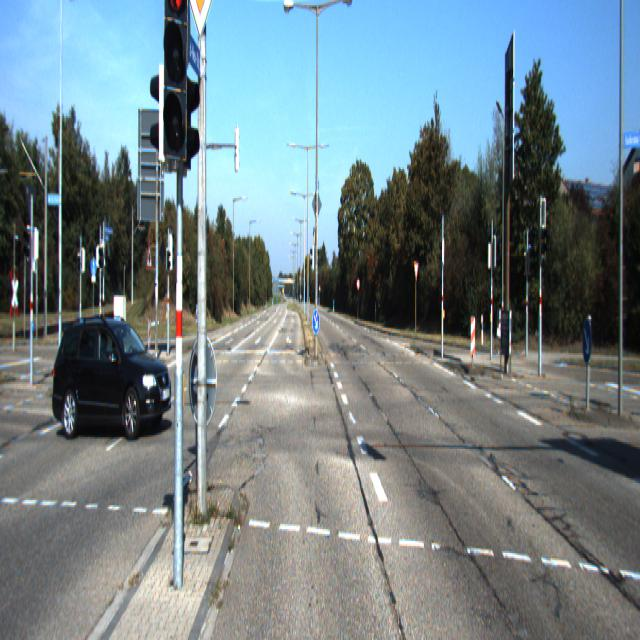Car: (49, 307, 176, 439)
